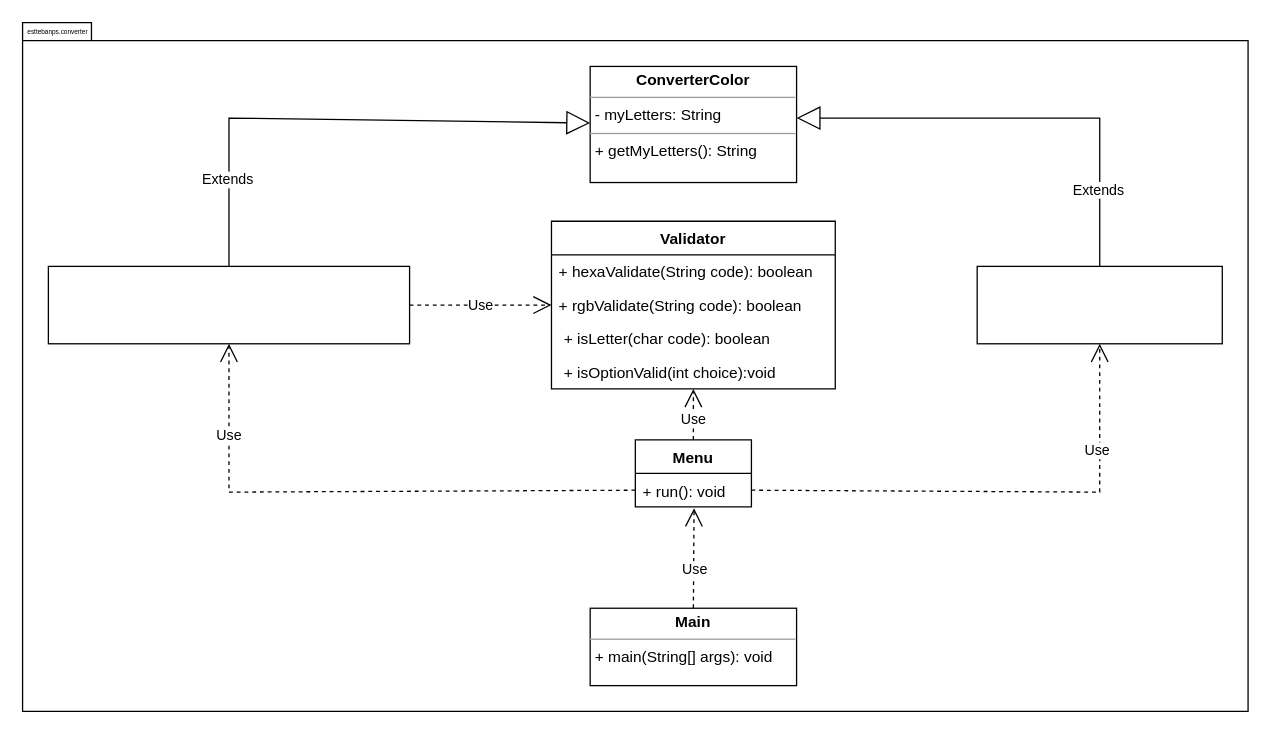
This 1271x734 diagram has some shape labels left out. The box of each missing label's shape, as (x1, y1, x2, y2) in pixels:
Hexa2RGB + converter(String code, String myLetters): (47, 265, 410, 344)
RGB2Hexa + converter(String code): (976, 265, 1222, 344)
